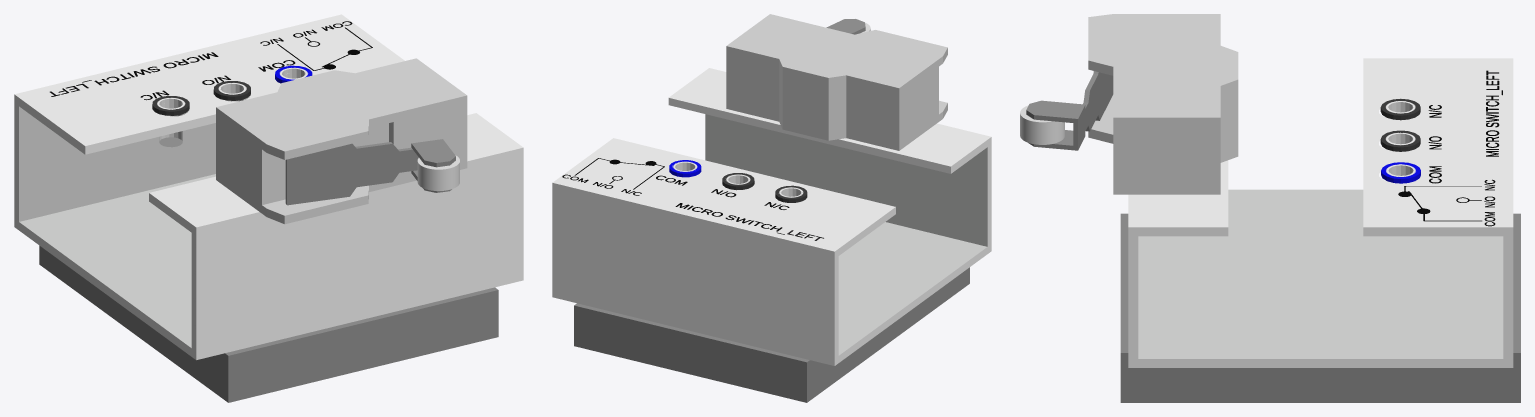
The model's file is limit-switch-left.glb.
The picture shows the model from 3 angles, left to right: view 1: azimuth 30°, elevation 25°; view 2: azimuth 150°, elevation 25°; view 3: azimuth 270°, elevation 25°; orthographic projection. The views are drawn at different scales.
Parts seen in each view (by area): view 1: Micro-Left-Switch-Unit_OP__go870__mesh5, Micro-Left-Switch-Unit_OP__go870__mesh3, Micro-Left-Switch-Unit_OP__go870__mesh0, Switch-Frame__go1141__mesh0, Micro-Left-Switch-Unit_OP__go870__mesh2, Micro-Left-Switch-Unit_OP__go870__mesh4, Switch-Wheel__go1140__mesh0, Micro-Left-Switch-Unit_OP__go870__mesh1; view 2: Micro-Left-Switch-Unit_OP__go870__mesh5, Micro-Left-Switch-Unit_OP__go870__mesh3, Micro-Left-Switch-Unit_OP__go870__mesh0, Micro-Left-Switch-Unit_OP__go870__mesh4, Micro-Left-Switch-Unit_OP__go870__mesh2, Micro-Left-Switch-Unit_OP__go870__mesh1, Switch-Frame__go1141__mesh0; view 3: Micro-Left-Switch-Unit_OP__go870__mesh5, Micro-Left-Switch-Unit_OP__go870__mesh3, Micro-Left-Switch-Unit_OP__go870__mesh0, Switch-Frame__go1141__mesh0, Micro-Left-Switch-Unit_OP__go870__mesh4, Micro-Left-Switch-Unit_OP__go870__mesh2, Switch-Wheel__go1140__mesh0, Micro-Left-Switch-Unit_OP__go870__mesh1.
Boxes of the visible parts, x1,y1,x2,y2 form: Micro-Left-Switch-Unit_OP__go870__mesh5: (14,14,523,360); Micro-Left-Switch-Unit_OP__go870__mesh3: (216,58,467,224); Micro-Left-Switch-Unit_OP__go870__mesh0: (39,245,498,402); Switch-Frame__go1141__mesh0: (285,139,455,205); Micro-Left-Switch-Unit_OP__go870__mesh2: (152,81,250,147); Micro-Left-Switch-Unit_OP__go870__mesh4: (49,21,372,100); Switch-Wheel__go1140__mesh0: (417,155,459,190); Micro-Left-Switch-Unit_OP__go870__mesh1: (275,65,312,83); Micro-Left-Switch-Unit_OP__go870__mesh5: (552,68,991,365); Micro-Left-Switch-Unit_OP__go870__mesh3: (726,14,947,150); Micro-Left-Switch-Unit_OP__go870__mesh0: (574,267,969,402); Micro-Left-Switch-Unit_OP__go870__mesh4: (562,158,823,240); Micro-Left-Switch-Unit_OP__go870__mesh2: (722,173,807,202); Micro-Left-Switch-Unit_OP__go870__mesh1: (669,160,701,177); Switch-Frame__go1141__mesh0: (826,19,865,34); Micro-Left-Switch-Unit_OP__go870__mesh5: (1128,58,1513,367); Micro-Left-Switch-Unit_OP__go870__mesh3: (1088,14,1238,194); Micro-Left-Switch-Unit_OP__go870__mesh0: (1120,213,1520,402); Switch-Frame__go1141__mesh0: (1026,71,1113,150); Micro-Left-Switch-Unit_OP__go870__mesh4: (1398,70,1502,226); Micro-Left-Switch-Unit_OP__go870__mesh2: (1380,98,1420,151); Switch-Wheel__go1140__mesh0: (1020,105,1064,144); Micro-Left-Switch-Unit_OP__go870__mesh1: (1381,162,1420,183).
Size of the model in its own units: 0.08 by 0.059 by 0.1001.
Materials: 8 (4 with a texture image).
